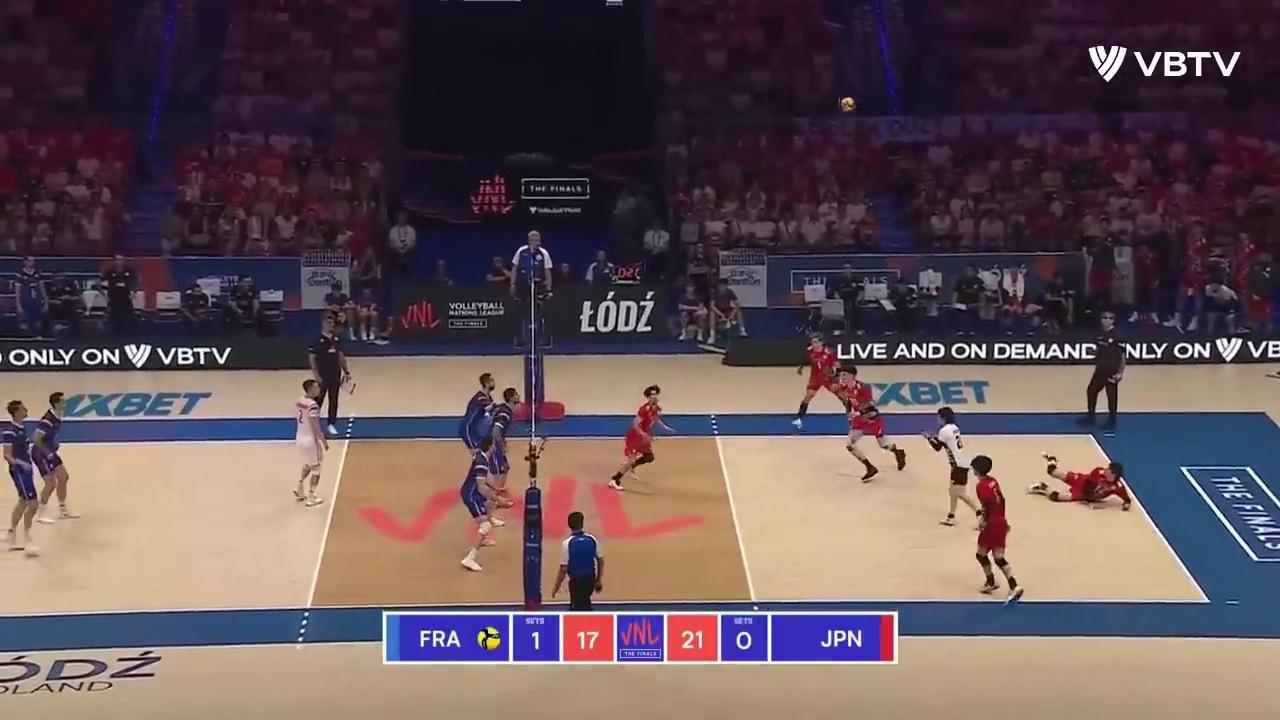ball: (840, 95, 855, 112)
